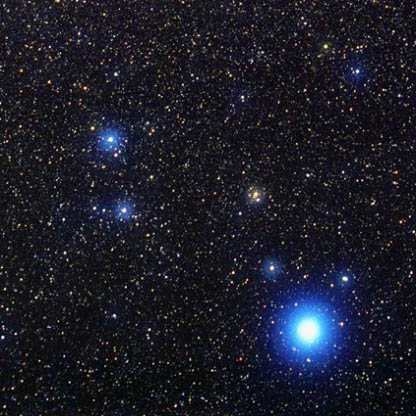Lyra: (260, 291, 356, 373), (330, 266, 362, 296), (113, 199, 146, 227), (97, 124, 127, 154), (260, 255, 289, 286), (247, 181, 268, 205)
